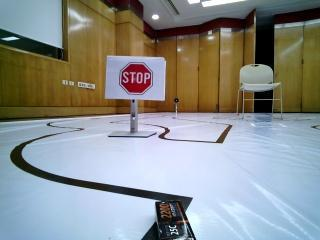stop: (103, 55, 165, 100)
